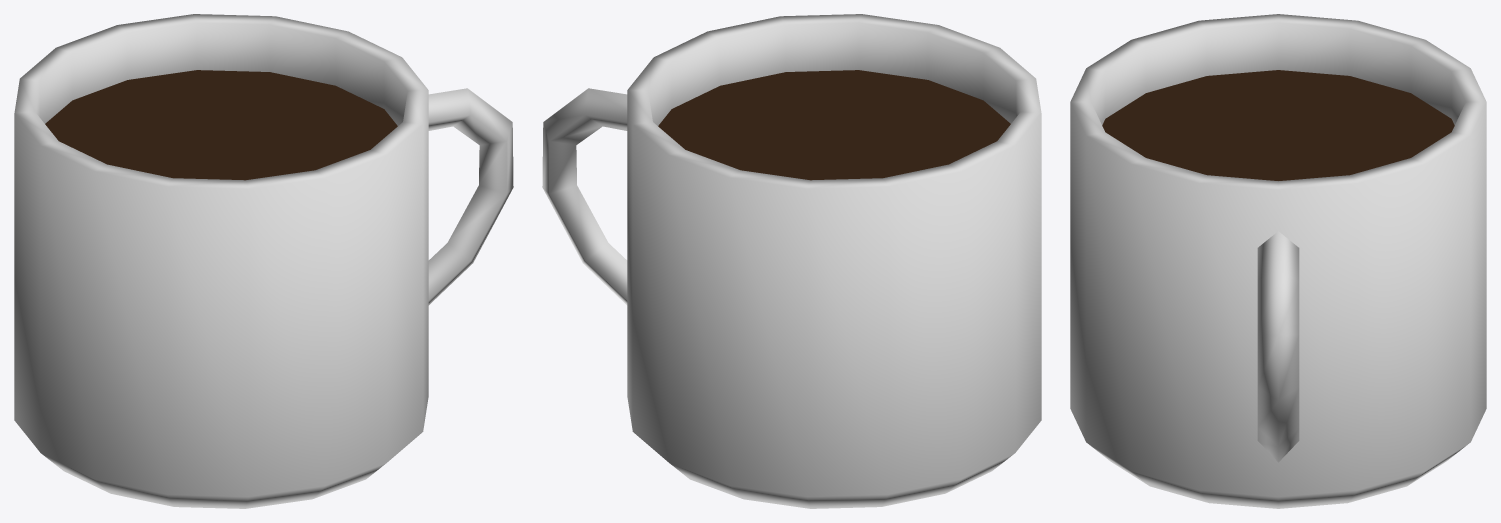
Rendered from mug.glb.
The picture shows the model from 3 angles, left to right: view 1: azimuth 30°, elevation 25°; view 2: azimuth 150°, elevation 25°; view 3: azimuth 270°, elevation 25°; orthographic projection.
Visible parts, largest first — view 1: Cylinder, NurbsCurve; view 2: Cylinder, NurbsCurve; view 3: Cylinder, NurbsCurve.
Boxes of the visible parts, x1,y1,x2,y2 form: Cylinder: (14, 14, 428, 508); NurbsCurve: (428, 88, 513, 305); Cylinder: (627, 14, 1041, 508); NurbsCurve: (542, 88, 627, 305); Cylinder: (1070, 14, 1486, 508); NurbsCurve: (1257, 231, 1299, 462).
Size of the model in its own units: 0.1046 by 0.07 by 0.08.
